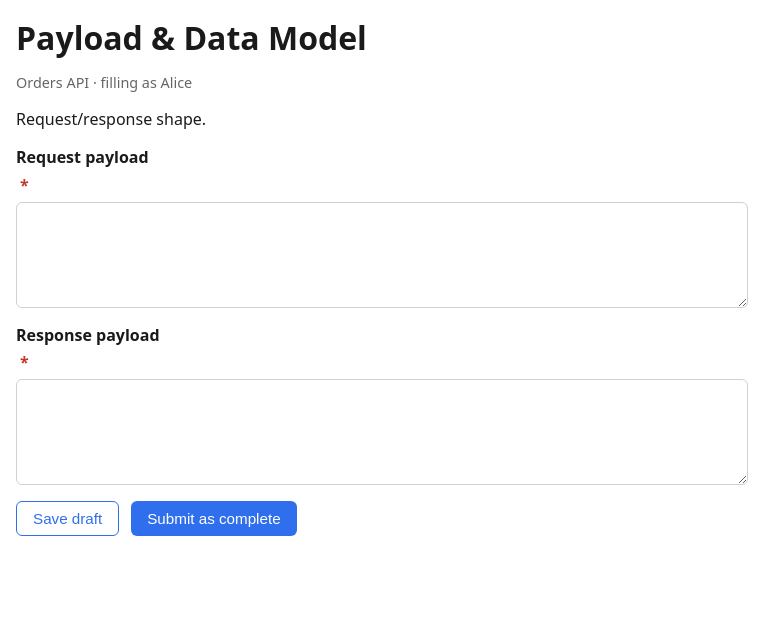
Test case: shows the server's missingFields list in the error after a failed submit
The width and height of the screenshot is (765, 623).
Expected: the heading "Payload & Data Model" is shown, [16, 16, 367, 59]
Click the button "Submit as complete". click: coordinates (214, 518)
box: [131, 501, 297, 536]
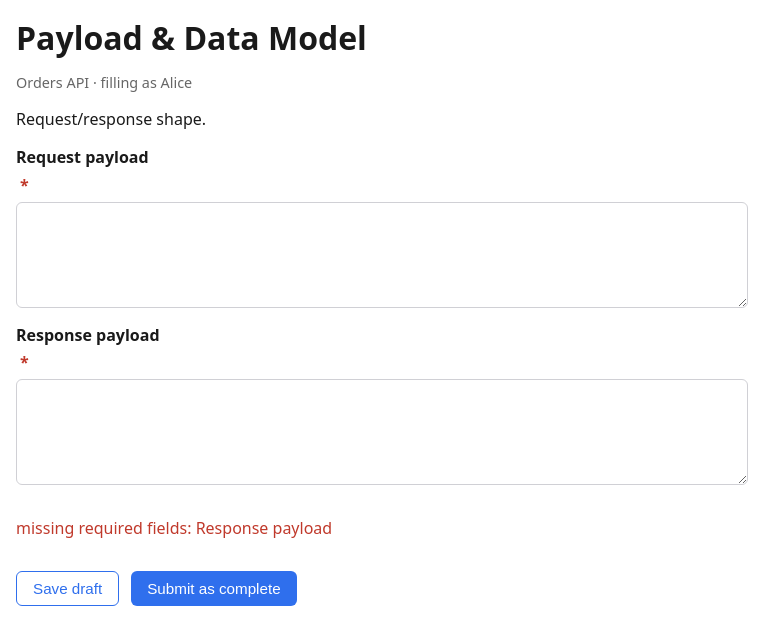
Expected: the text "missing required fields: Response payload" is shown, [16, 517, 332, 539]
